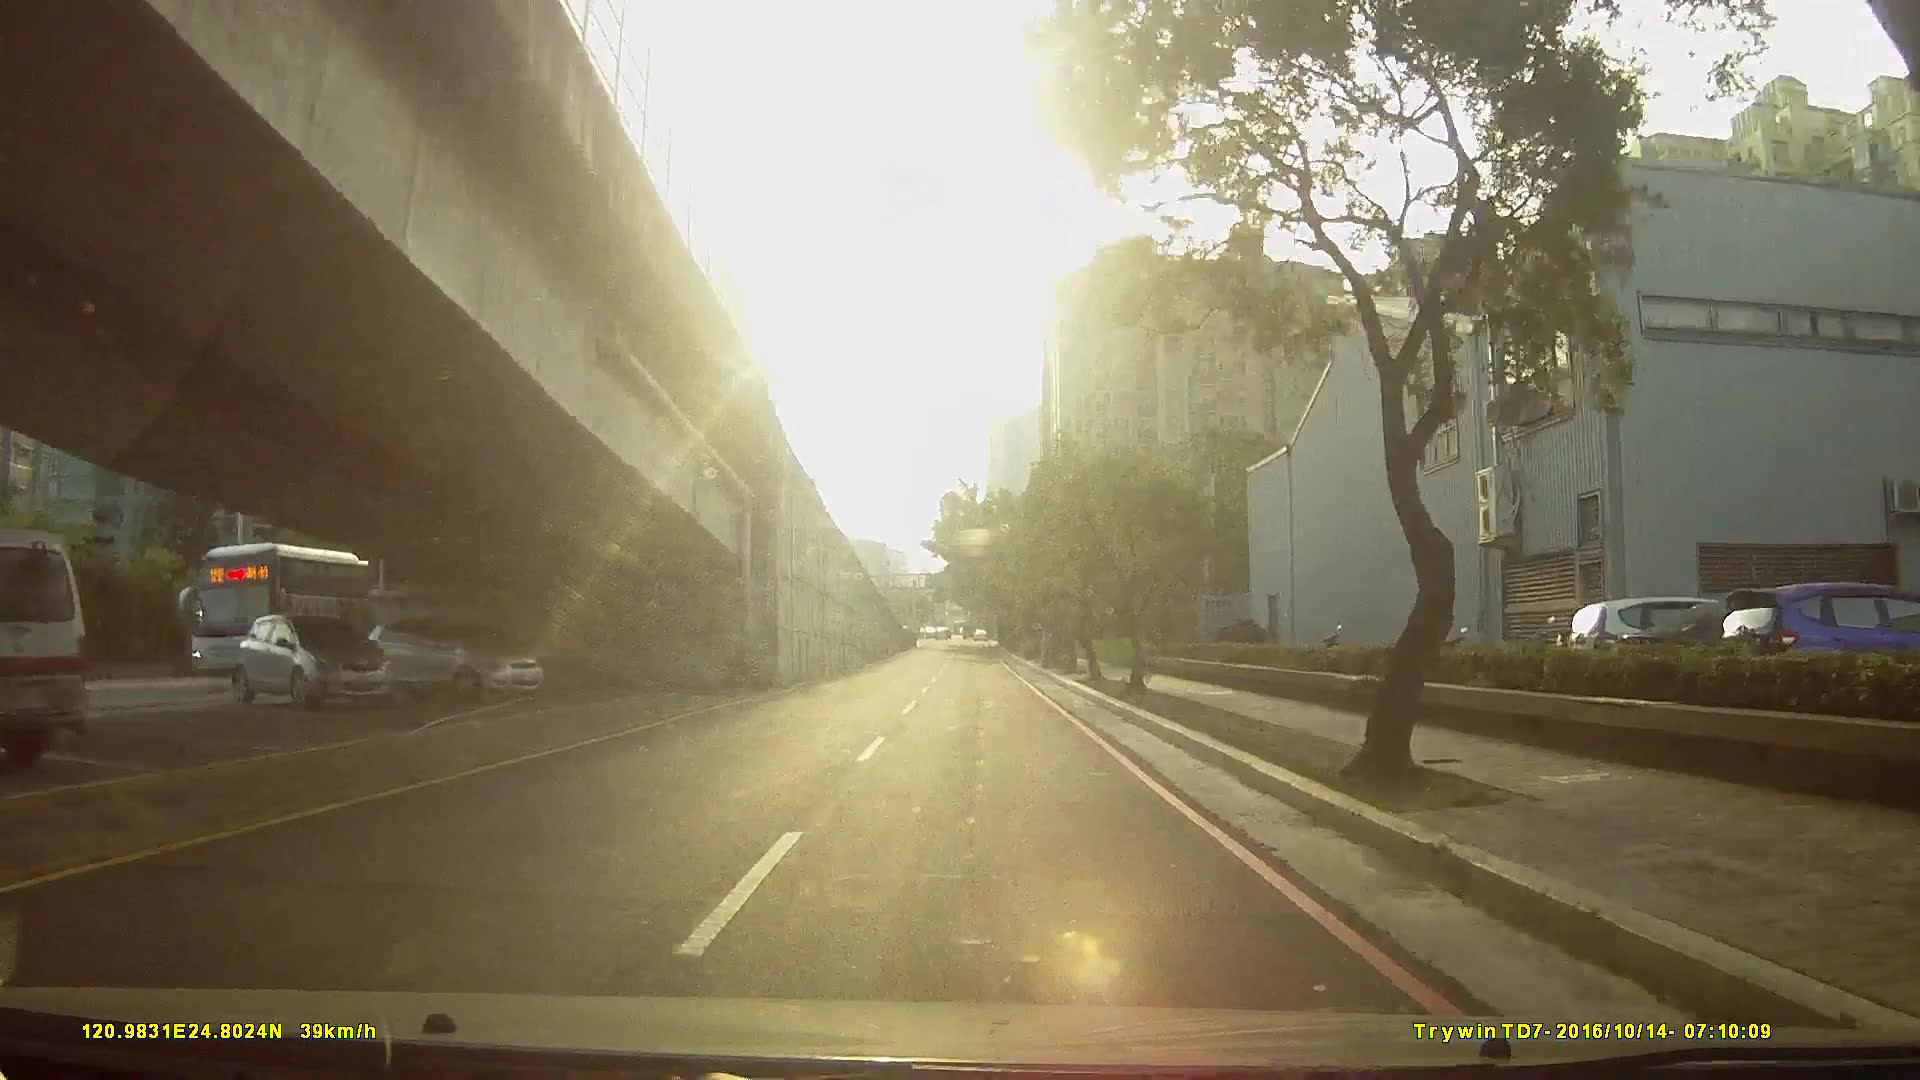vehicle: (175, 537, 443, 698), (1, 524, 109, 779), (222, 611, 386, 708), (352, 618, 537, 705)
